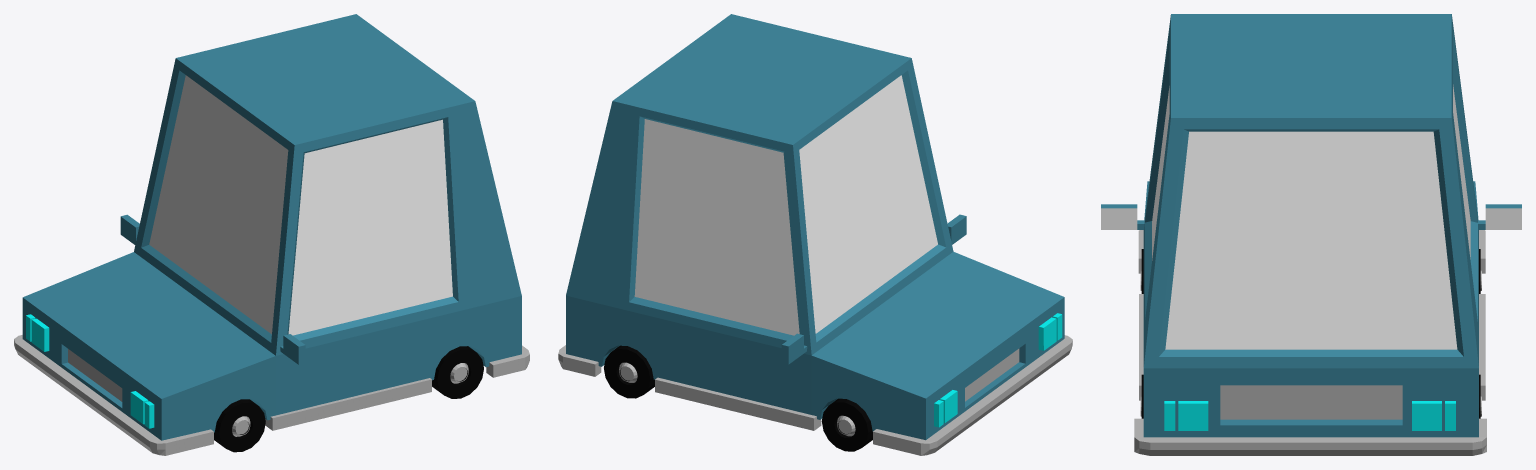
Rendered from Carro low poly.fbx.
3 renders of one model, left to right at view 1: azimuth 30°, elevation 25°; view 2: azimuth 150°, elevation 25°; view 3: azimuth 270°, elevation 25°, orthographic. The views are drawn at different scales.
Parts seen in each view (by area): view 1: pCube26; view 2: pCube26; view 3: pCube26.
Boxes of the visible parts, left/top/right/bottom form: pCube26: left=14, top=14, right=529, bottom=455; pCube26: left=558, top=14, right=1072, bottom=455; pCube26: left=1101, top=14, right=1521, bottom=455.
Bounding box in the file's own units: 7.39 × 5.28 × 6.05.
